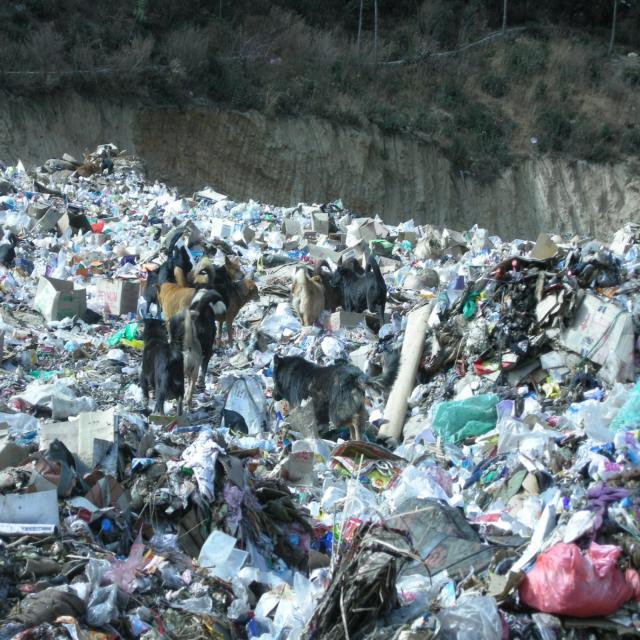garbage: (2, 152, 640, 640)
